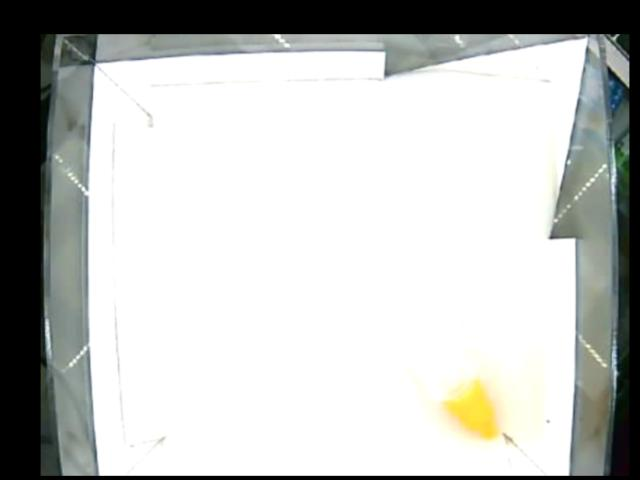Bottle: (401, 323, 501, 442)
